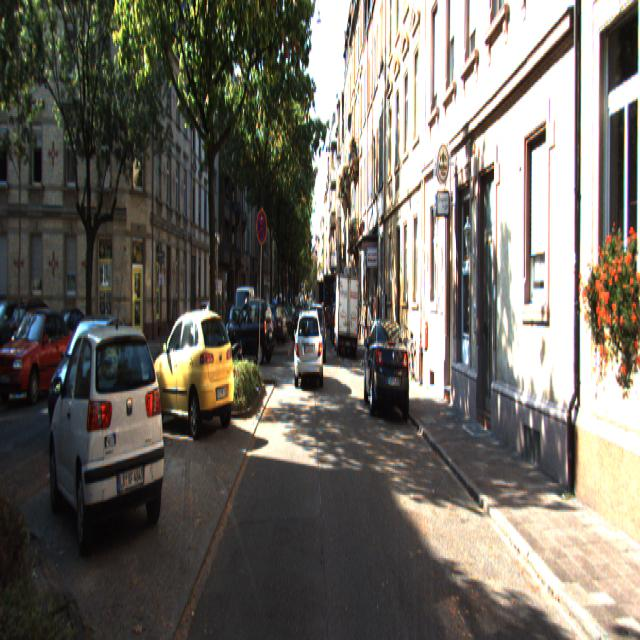Car: (46, 326, 171, 567), (150, 308, 238, 446), (42, 304, 132, 426), (0, 311, 78, 402), (363, 311, 413, 419), (225, 297, 275, 365), (294, 311, 324, 390), (334, 276, 360, 358), (219, 323, 245, 396), (306, 304, 326, 363)
